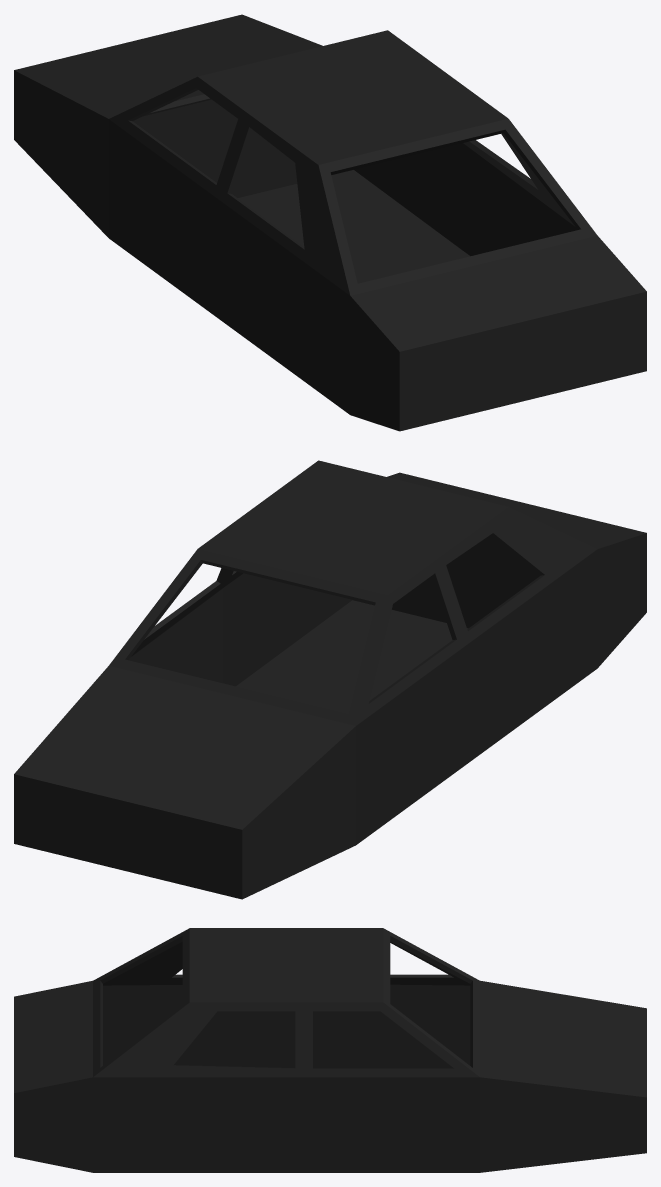
Rendered from beamer.glb.
3 renders of one model, top to bottom at view 1: azimuth 30°, elevation 25°; view 2: azimuth 150°, elevation 25°; view 3: azimuth 270°, elevation 25°, orthographic. The views are drawn at different scales.
Visible parts, largest first — view 1: vehicles/beamer; view 2: vehicles/beamer; view 3: vehicles/beamer.
Part boxes in pixels (x1,y1,x2,y2): vehicles/beamer: [14, 14, 646, 431]; vehicles/beamer: [14, 460, 646, 899]; vehicles/beamer: [14, 928, 646, 1172].
Size of the model in its own units: 1.62 by 1.25 by 4.5.
Materials: 2 (2 with a texture image).
